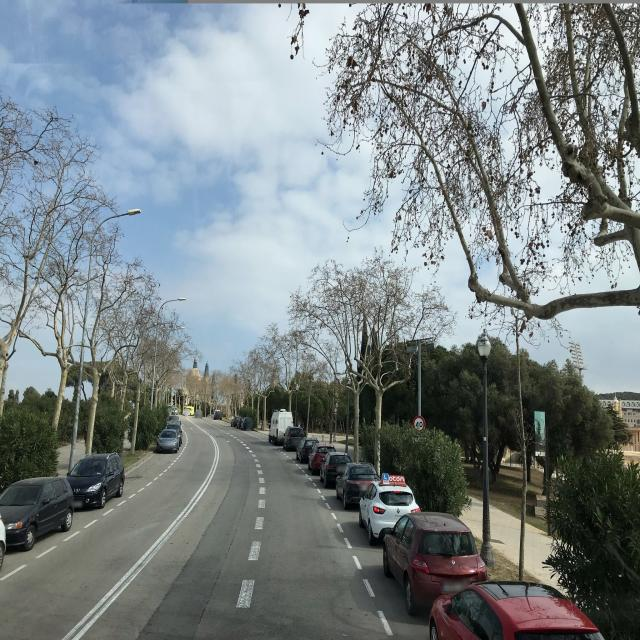car: (427, 578, 621, 640), (382, 509, 487, 616), (0, 476, 74, 552), (358, 474, 419, 546), (66, 452, 124, 510), (335, 462, 378, 508), (319, 450, 352, 487), (268, 409, 293, 446), (308, 444, 336, 474), (156, 428, 179, 454), (296, 437, 318, 462), (165, 417, 183, 447), (283, 426, 304, 451), (243, 416, 254, 430), (213, 409, 223, 421), (230, 414, 238, 428)
